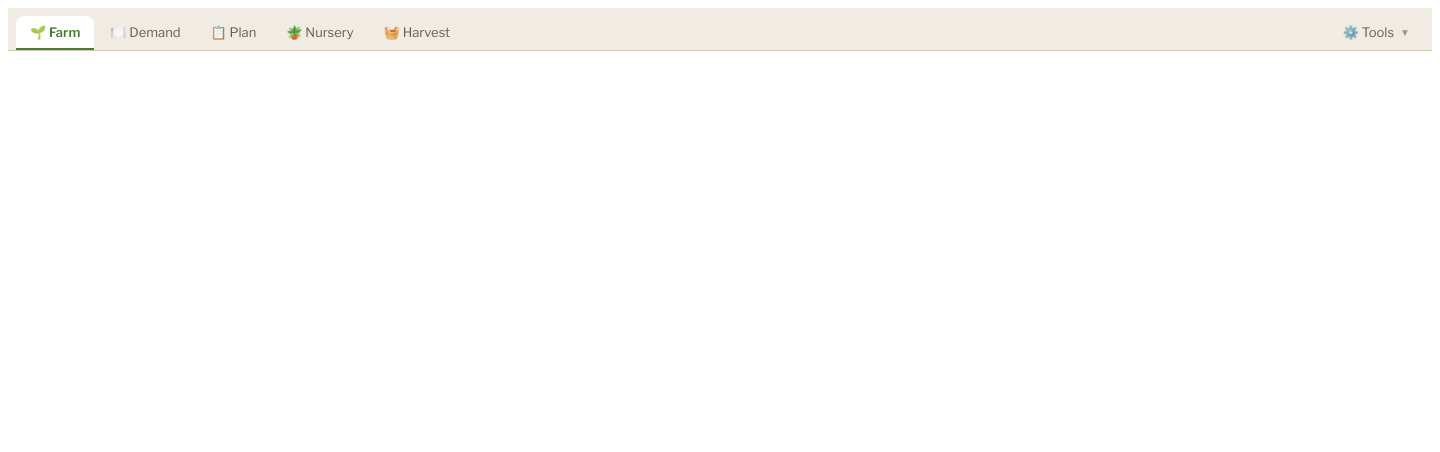
TabNav › opens dropdown and shows tool tabs when Tools is clicked
What coordinates should you click on to do the following:
click the button "⚙️ Tools ▼"
I would click on:
 (1376, 33)
Its box is [1329,16,1424,50].
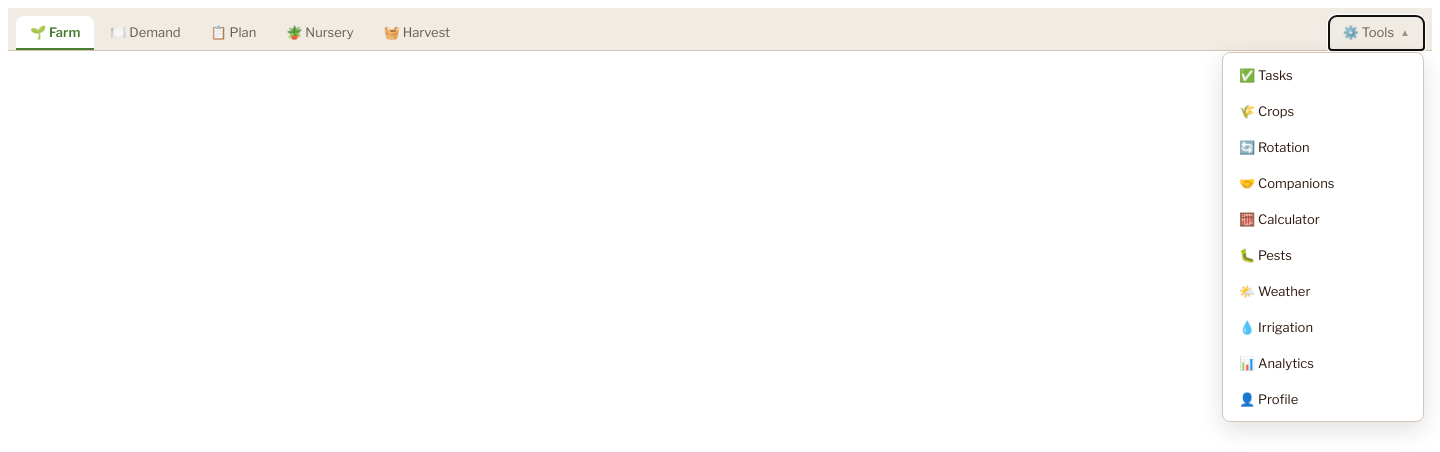
Check: the menu item "✅ Tasks" is shown, box [1223,57,1423,93]
Check: the menu item "🌾 Crops" is shown, box [1223,93,1423,129]
Check: the menu item "🔄 Rotation" is shown, box [1223,129,1423,165]
